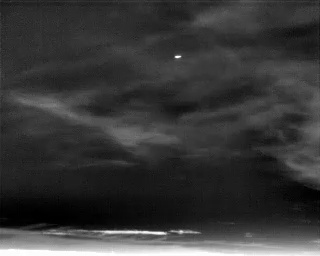AIRPLANE: (173, 52, 183, 61)
